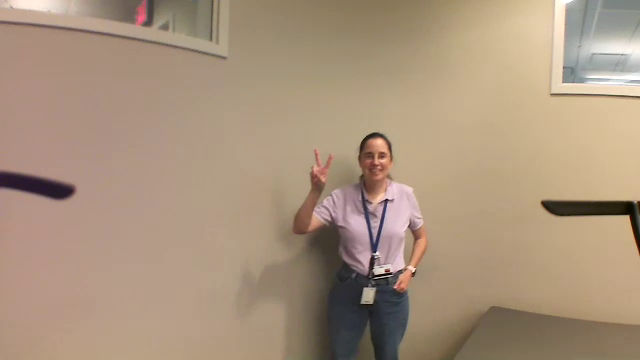peace: (302, 147, 342, 196)
